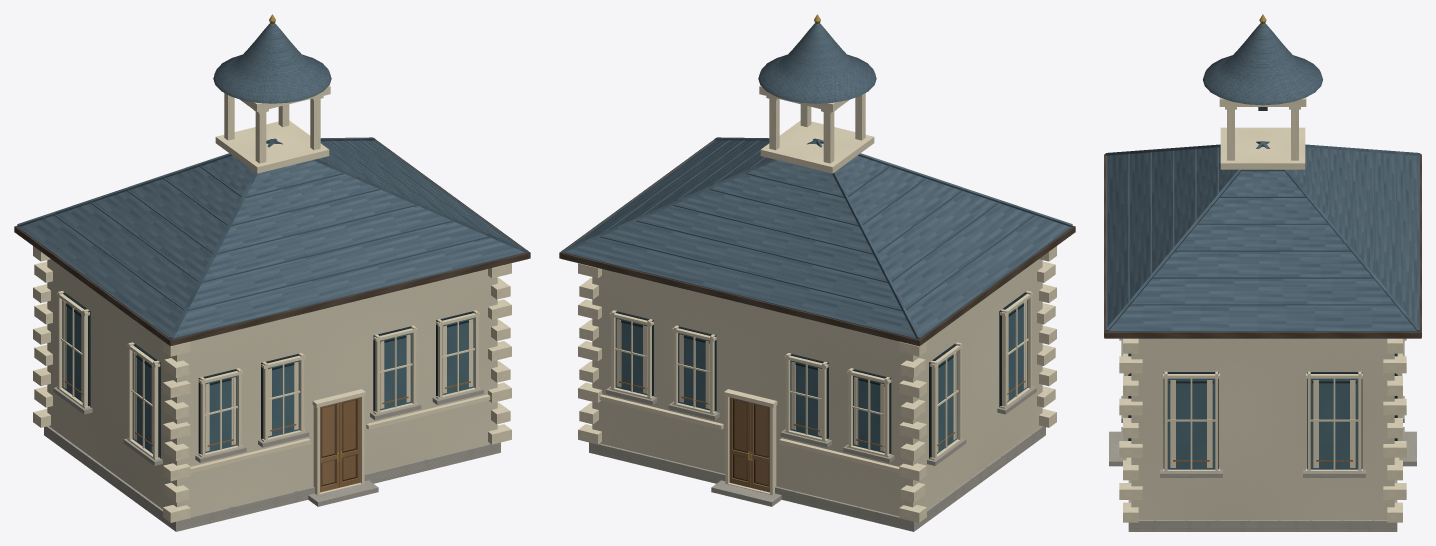
The model's file is school-crafted.glb.
3 views of the same model, side by side, from view 1: azimuth 30°, elevation 25°; view 2: azimuth 150°, elevation 25°; view 3: azimuth 270°, elevation 25° (orthographic).
Visible parts, largest first — view 1: school authored architecture; view 2: school authored architecture; view 3: school authored architecture.
Boxes of the visible parts, x1,y1,x2,y2 form: school authored architecture: [14, 14, 530, 531]; school authored architecture: [559, 14, 1075, 531]; school authored architecture: [1104, 14, 1421, 531].
Size of the model in its own units: 11.24 by 12.83 by 8.44.
1 material, 1 textured.
